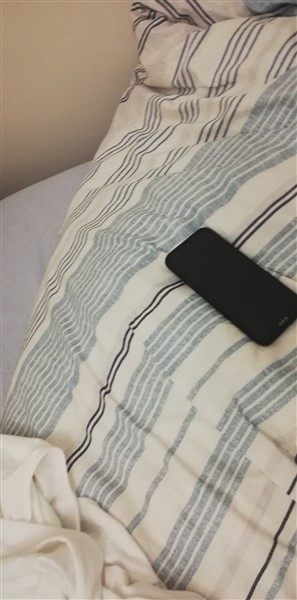telefon: (161, 223, 297, 354)
